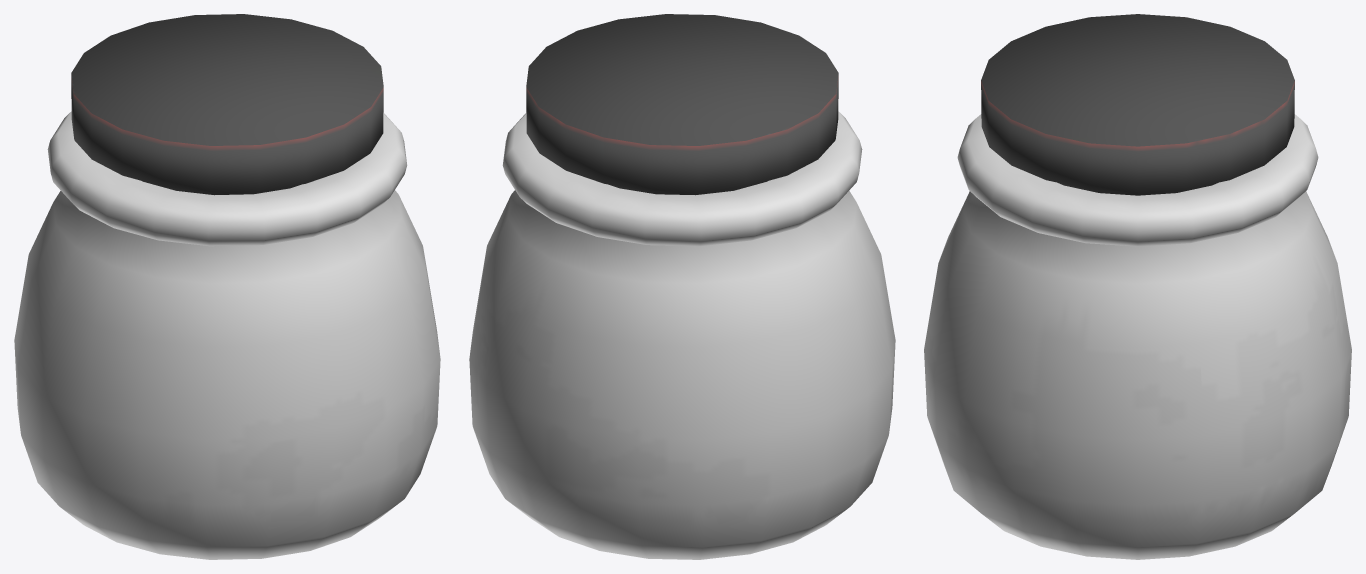
Rendered from pi_glasspot02_mustard.gltf.
3 renders of one model, left to right at view 1: azimuth 30°, elevation 25°; view 2: azimuth 150°, elevation 25°; view 3: azimuth 270°, elevation 25°, orthographic.
Parts seen in each view (by area): view 1: pi_glasspot02_outside01_mesh_shape:pi_glasspot02_glass, pi_glasspot02_lid01_mesh_shape:pi_glasspot02_mustard_body; view 2: pi_glasspot02_outside01_mesh_shape:pi_glasspot02_glass, pi_glasspot02_lid01_mesh_shape:pi_glasspot02_mustard_body; view 3: pi_glasspot02_outside01_mesh_shape:pi_glasspot02_glass, pi_glasspot02_lid01_mesh_shape:pi_glasspot02_mustard_body.
Part boxes in pixels (x1,y1,x2,y2): pi_glasspot02_outside01_mesh_shape:pi_glasspot02_glass: [14, 111, 440, 559]; pi_glasspot02_lid01_mesh_shape:pi_glasspot02_mustard_body: [71, 14, 383, 195]; pi_glasspot02_outside01_mesh_shape:pi_glasspot02_glass: [469, 111, 895, 559]; pi_glasspot02_lid01_mesh_shape:pi_glasspot02_mustard_body: [526, 14, 838, 195]; pi_glasspot02_outside01_mesh_shape:pi_glasspot02_glass: [924, 114, 1351, 559]; pi_glasspot02_lid01_mesh_shape:pi_glasspot02_mustard_body: [981, 14, 1294, 195].
Bounding box in the file's own units: 0.0943 × 0.0997 × 0.0943.
Materials: 3 (3 with a texture image).
